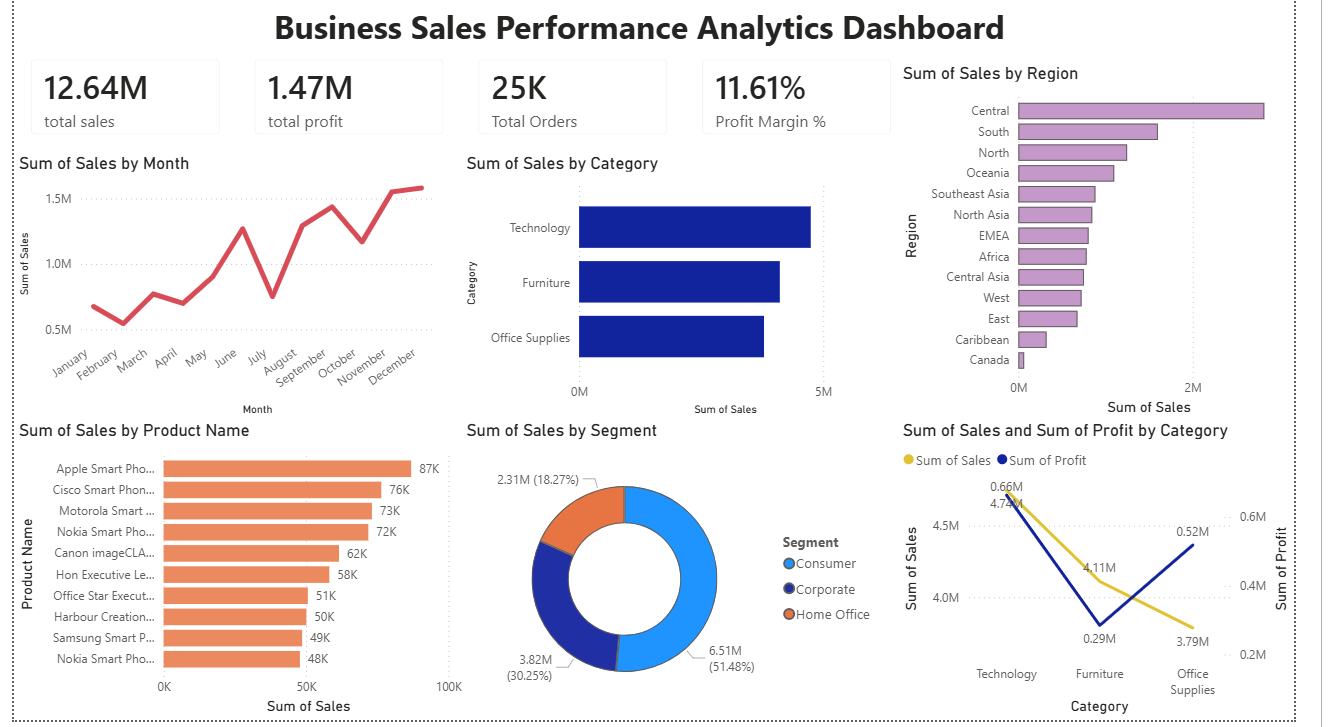

Layout of this report page (visuals, bound fields, positions):
{"tool":"powerbi","page":{"name":"Page 1","canvas":[1280,720],"ordinal":0},"visuals":[{"type":"cardVisual","fields":{"Data":["Orders.total sales"]},"box":[0,0,223.7,126.2],"z":1},{"type":"cardVisual","fields":{"Data":["Orders.total profit"]},"box":[223.7,0,223.7,126.2],"z":2},{"type":"cardVisual","fields":{"Data":["Orders.Total Orders"]},"box":[447.3,0,223.7,126.2],"z":3},{"type":"cardVisual","fields":{"Data":["Orders.Profit Margin %"]},"box":[671,0,223.7,126.2],"z":4},{"type":"lineChart","fields":{"Category":["Orders.Order Date.Variation.Date Hierarchy.Year","Orders.Order Date.Variation.Date Hierarchy.Quarter","Orders.Order Date.Variation.Date Hierarchy.Month"],"Y":["Sum(Orders.Sales)"]},"box":[0,126.2,425.4,278.6],"z":5},{"type":"clusteredBarChart","fields":{"Category":["Orders.Category"],"Y":["Sum(Orders.Sales)"]},"box":[458.3,126.2,425.4,264.8],"z":6},{"type":"clusteredBarChart","fields":{"Category":["Orders.Region"],"Y":["Sum(Orders.Sales)"]},"box":[883.7,0,396.6,391.1],"z":7},{"type":"barChart","fields":{"Category":["Orders.Product Name"],"Y":["Sum(Orders.Sales)"]},"box":[0,404.8,458.3,315.6],"z":8},{"type":"donutChart","fields":{"Category":["Orders.Segment"],"Y":["Sum(Orders.Sales)"]},"box":[447.3,404.8,424,315.6],"z":9},{"type":"lineChart","fields":{"Category":["Orders.Category"],"Y":["Sum(Orders.Sales)"],"Y2":["Sum(Orders.Profit)"]},"box":[883.7,404.8,396.6,315.6],"z":10}]}

Visuals, with their boxes in screenshot pixels (x1, y1, x2, y2), scaled from the page's 1280x720 canvas onto the 1330x727 screenshot:
cardVisual - Orders.total sales: (0, 0, 232, 127)
cardVisual - Orders.total profit: (232, 0, 465, 127)
cardVisual - Orders.Total Orders: (465, 0, 697, 127)
cardVisual - Orders.Profit Margin %: (697, 0, 930, 127)
lineChart - Orders.Order Date.Variation.Date Hierarchy.Year x Orders.Order Date.Variation.Date Hierarchy.Quarter: (0, 127, 442, 409)
clusteredBarChart - Orders.Category x Sum(Orders.Sales): (476, 127, 918, 395)
clusteredBarChart - Orders.Region x Sum(Orders.Sales): (918, 0, 1329, 395)
barChart - Orders.Product Name x Sum(Orders.Sales): (0, 409, 476, 726)
donutChart - Orders.Segment x Sum(Orders.Sales): (465, 409, 905, 726)
lineChart - Orders.Category x Sum(Orders.Sales): (918, 409, 1329, 726)
